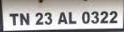character: (57, 10, 68, 24), (19, 12, 30, 25), (9, 12, 19, 25), (35, 11, 44, 24), (68, 11, 77, 24), (81, 10, 90, 23), (100, 10, 109, 23), (109, 10, 118, 23), (44, 11, 52, 25), (91, 10, 99, 23)
